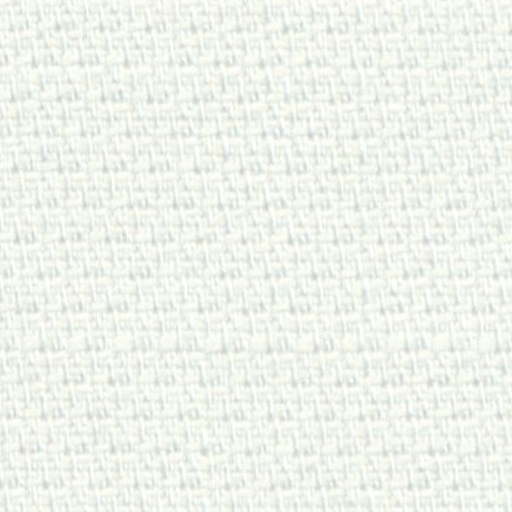TuoSha: (16, 39, 496, 124)
